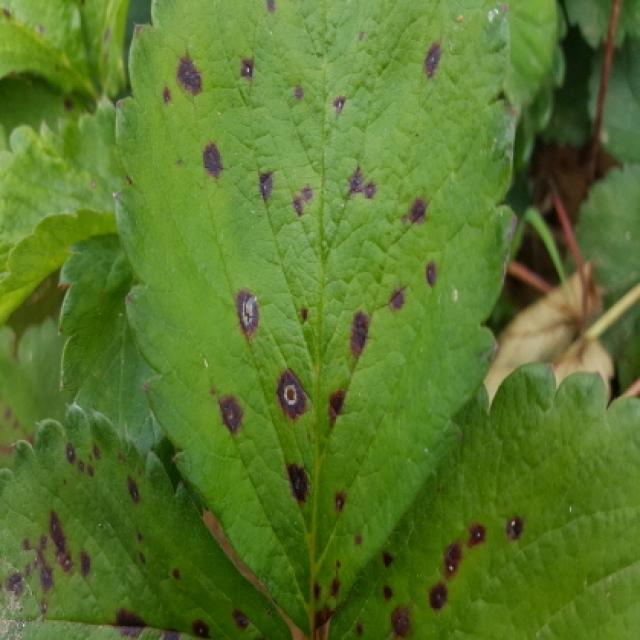Leaf Spot: (110, 0, 517, 633), (321, 362, 640, 638), (2, 404, 295, 638), (2, 316, 76, 466), (2, 0, 108, 97), (2, 72, 96, 151), (96, 0, 154, 103)
